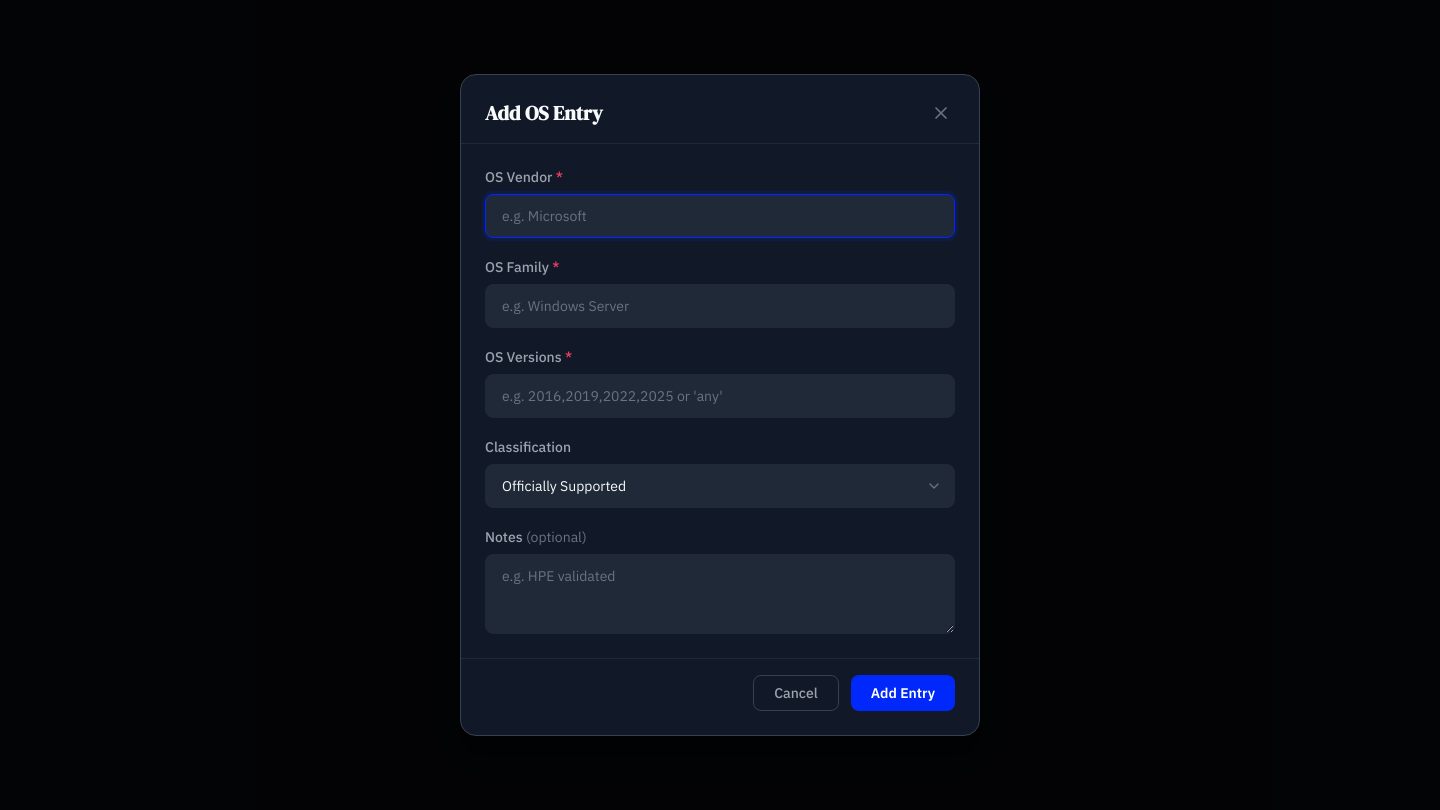
it: MatrixEntryModal › shows validation errors when required fields are empty
Click the button "Add Entry": (903, 693) [851,675,955,711]
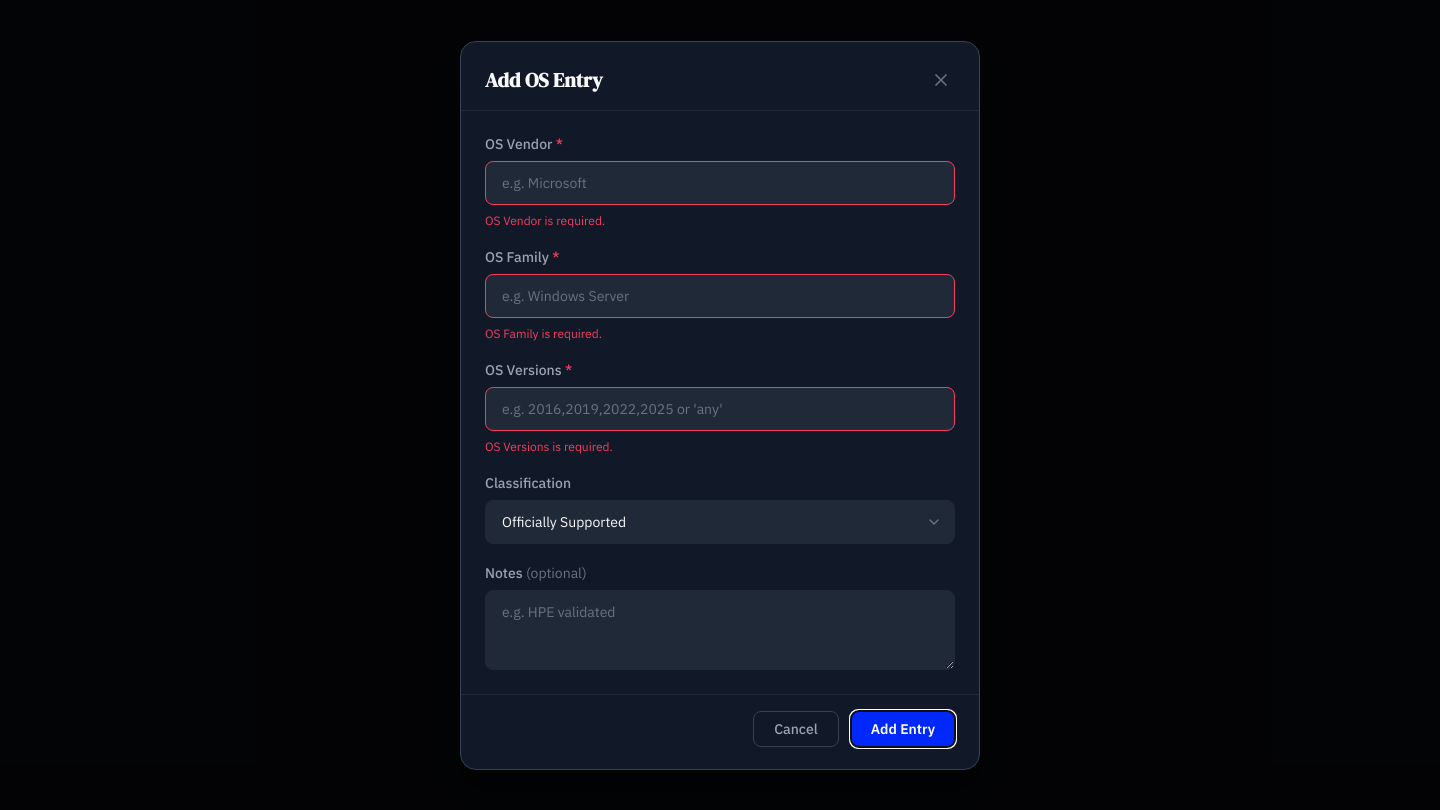
Expected: the text "OS Vendor is required." is shown, [485,212,605,228]
Expected: the text "OS Family is required." is shown, [485,326,602,340]
Expected: the text "OS Versions is required." is shown, [485,438,613,454]
